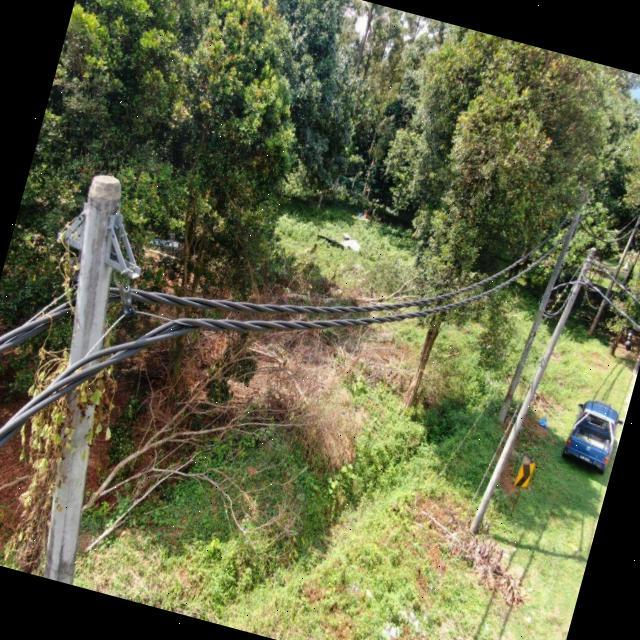critical vegetation: (0, 207, 173, 583)
